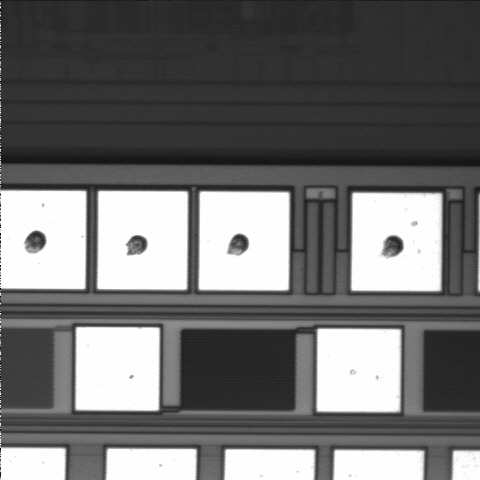pad: (97, 191, 188, 290), (199, 192, 289, 290), (351, 193, 441, 291), (76, 327, 159, 411), (317, 329, 400, 412)
